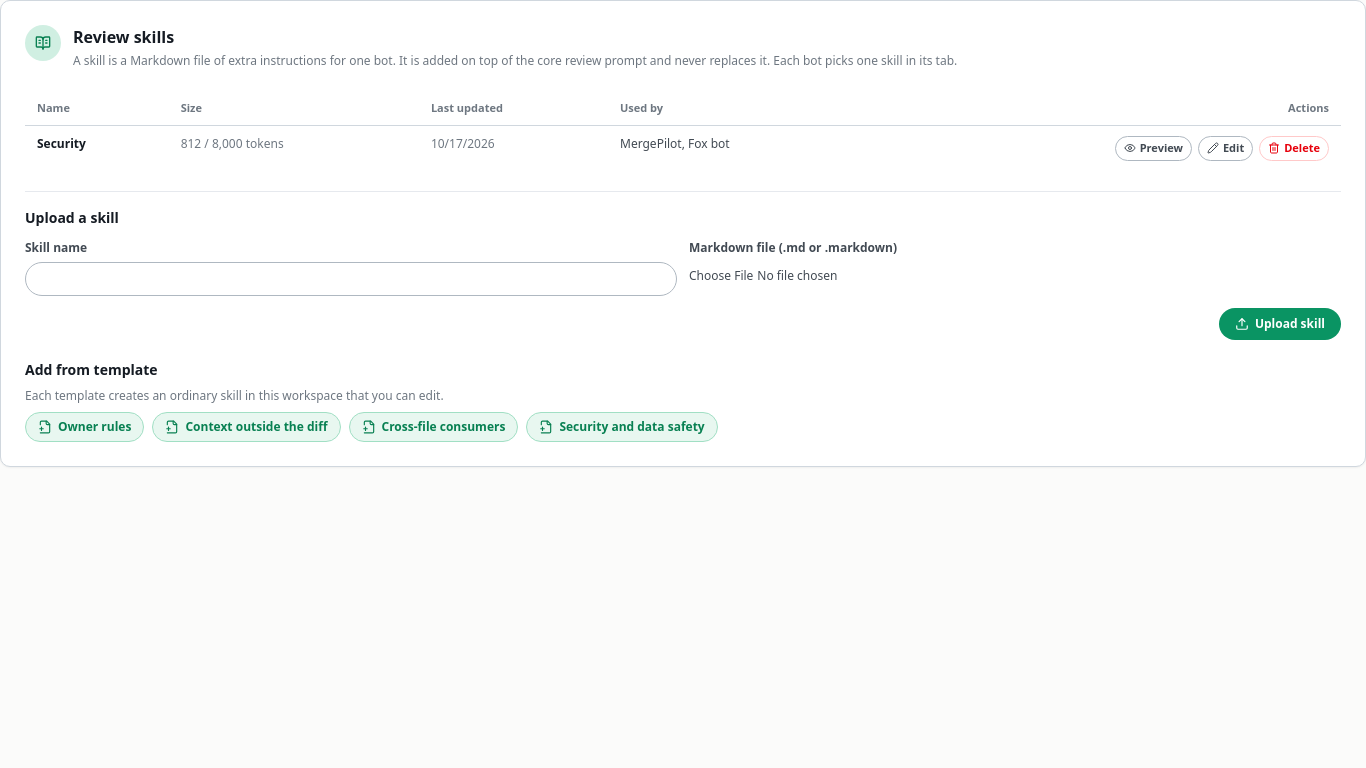
SkillsCard (ADR-0034) › confirms a delete in the page, naming the bots that fall back to the core prompt
Expected: the text "MergePilot, Fox bot" is shown, [608,126,871,171]
Step 1. Click the button "Delete" → (1294, 149), box [1259,136,1329,161]
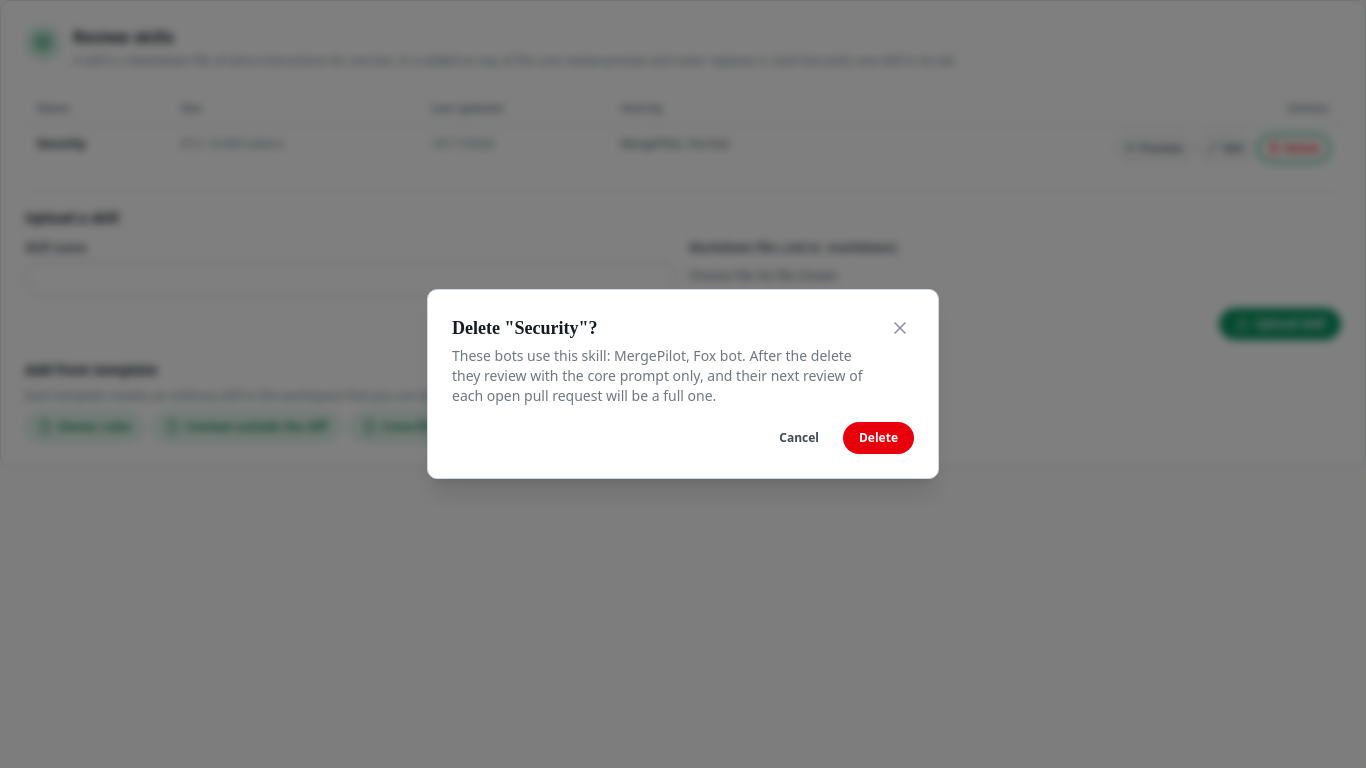
Expected: the heading "Delete \"Security\"?" is shown, [452,318,597,338]
Expected: the text "These bots use this skill: MergePilot, Fox bot. After the delete they review with the core prompt only, and their next r" is shown, [452,346,862,405]
Step 2. Click the button "Delete" → (878, 438), box [843,422,914,454]
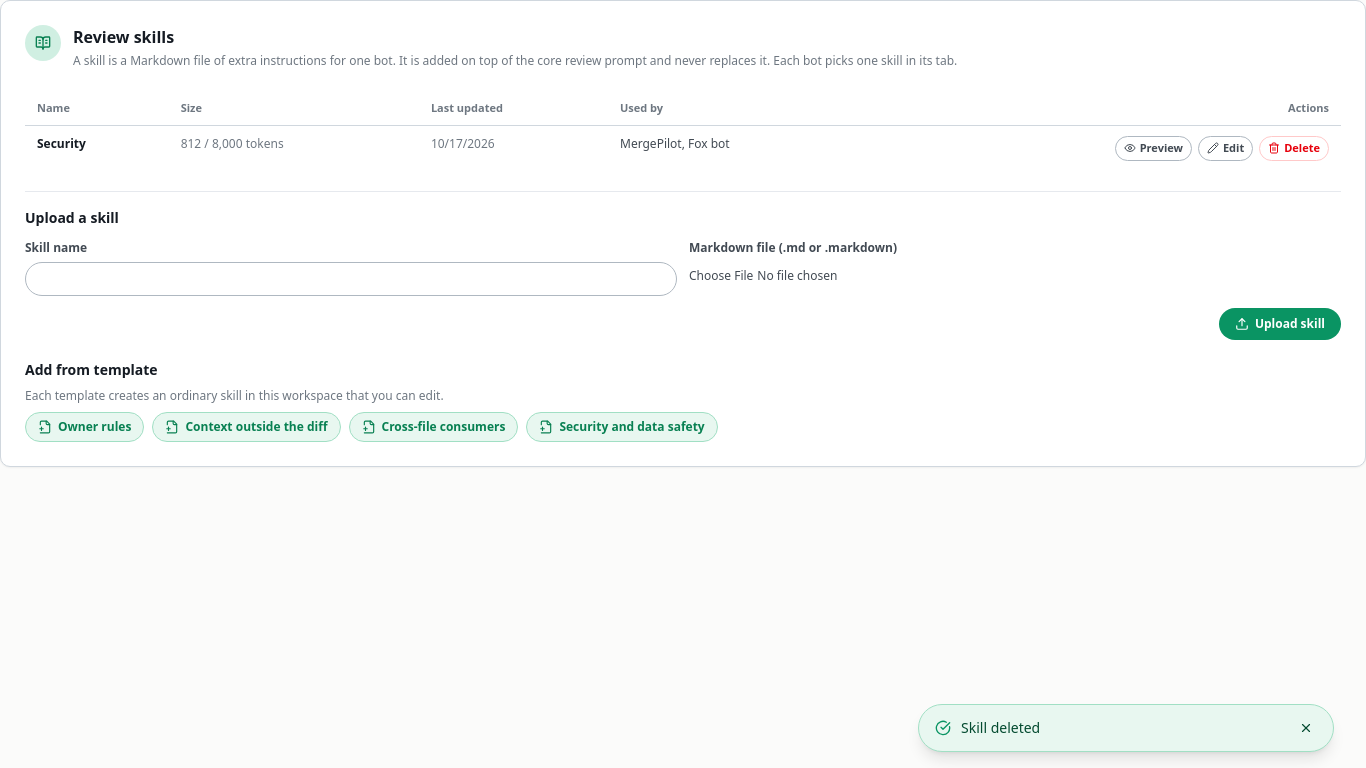
Expected: the dialog is gone
